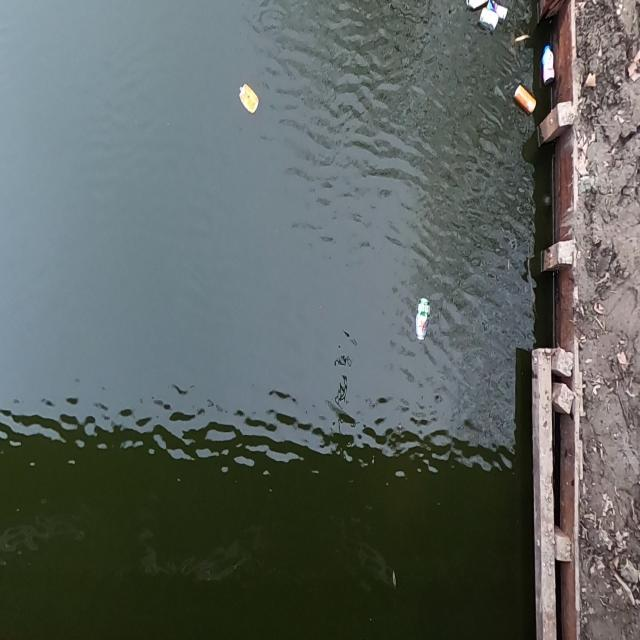Non plastique: (409, 293, 434, 350), (233, 75, 266, 117), (514, 80, 540, 126), (476, 9, 502, 39), (488, 0, 510, 24)
